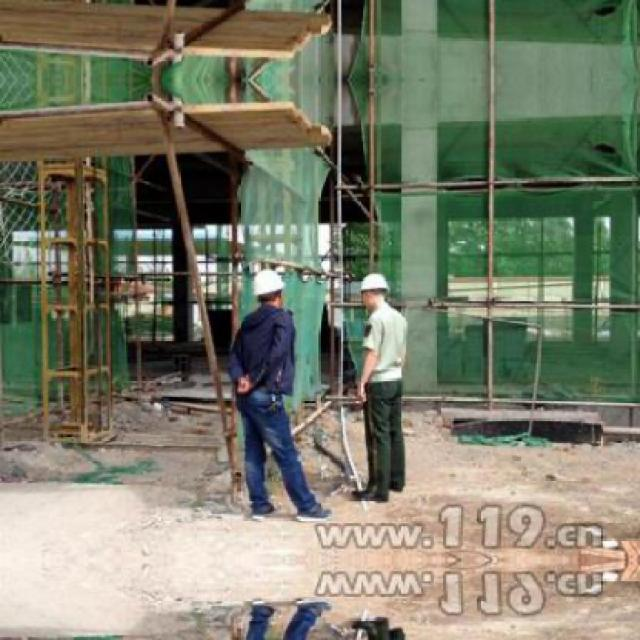helmet: (252, 268, 285, 315), (356, 271, 386, 312)
